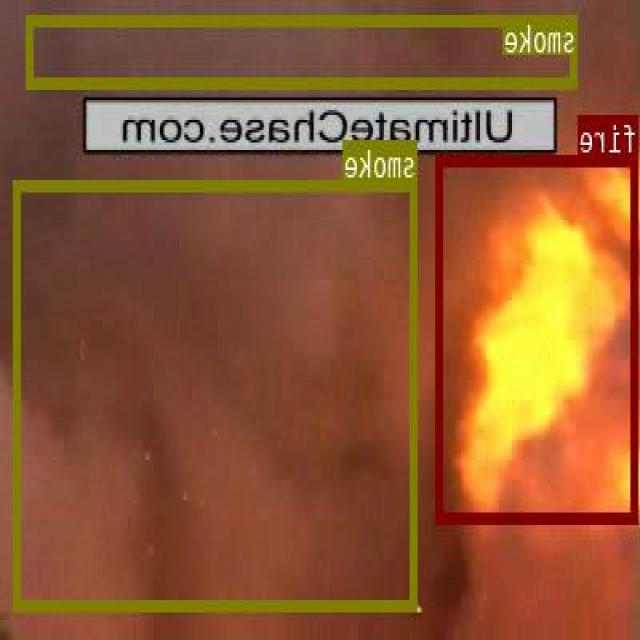fire: (438, 155, 639, 521)
smoke: (16, 179, 418, 608), (28, 13, 578, 87)
